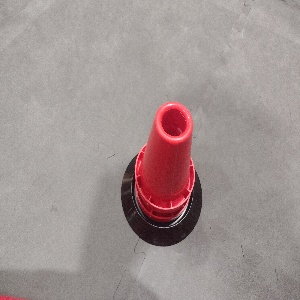Red_2: (130, 99, 196, 220)
